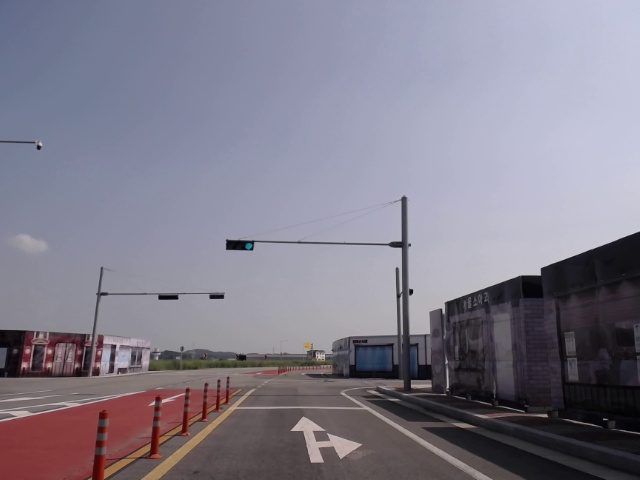green_3: (225, 239, 254, 251)
